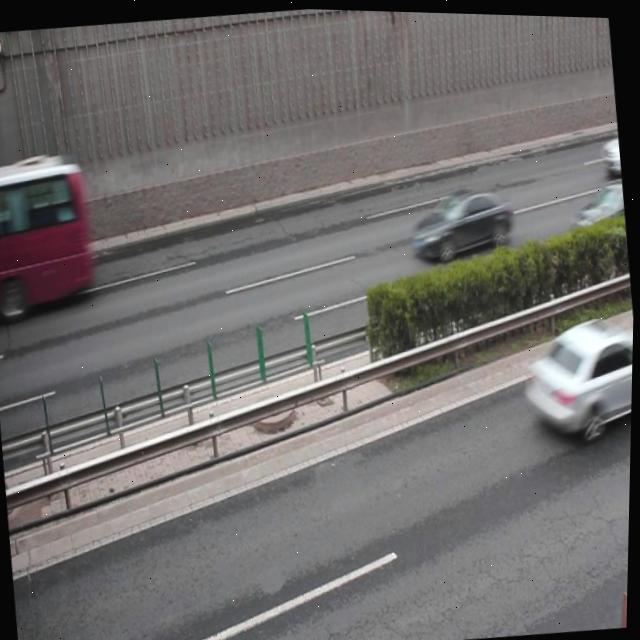car: (516, 312, 635, 443), (411, 182, 514, 262), (564, 175, 629, 243), (597, 113, 623, 176)
van: (0, 146, 97, 317)
